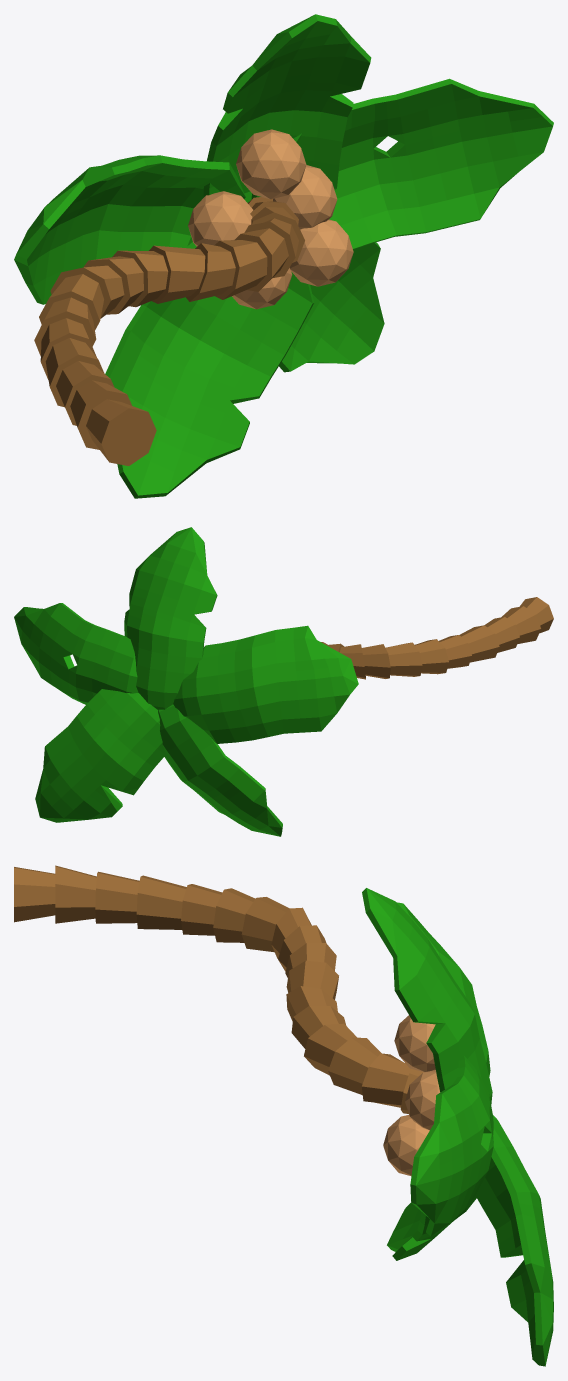
Rendered from palmeira003.fbx.
The picture shows the model from 3 angles, top to bottom: view 1: azimuth 30°, elevation 25°; view 2: azimuth 150°, elevation 25°; view 3: azimuth 270°, elevation 25°; orthographic projection. The views are drawn at different scales.
Visible parts, largest first — view 1: Folhas; view 2: Folhas; view 3: Folhas.
Boxes of the visible parts, <box> form: Folhas: <box>14,14,553,498</box>; Folhas: <box>14,527,553,836</box>; Folhas: <box>14,865,553,1366</box>.
Size of the model in its own units: 1198 by 782 by 903.
